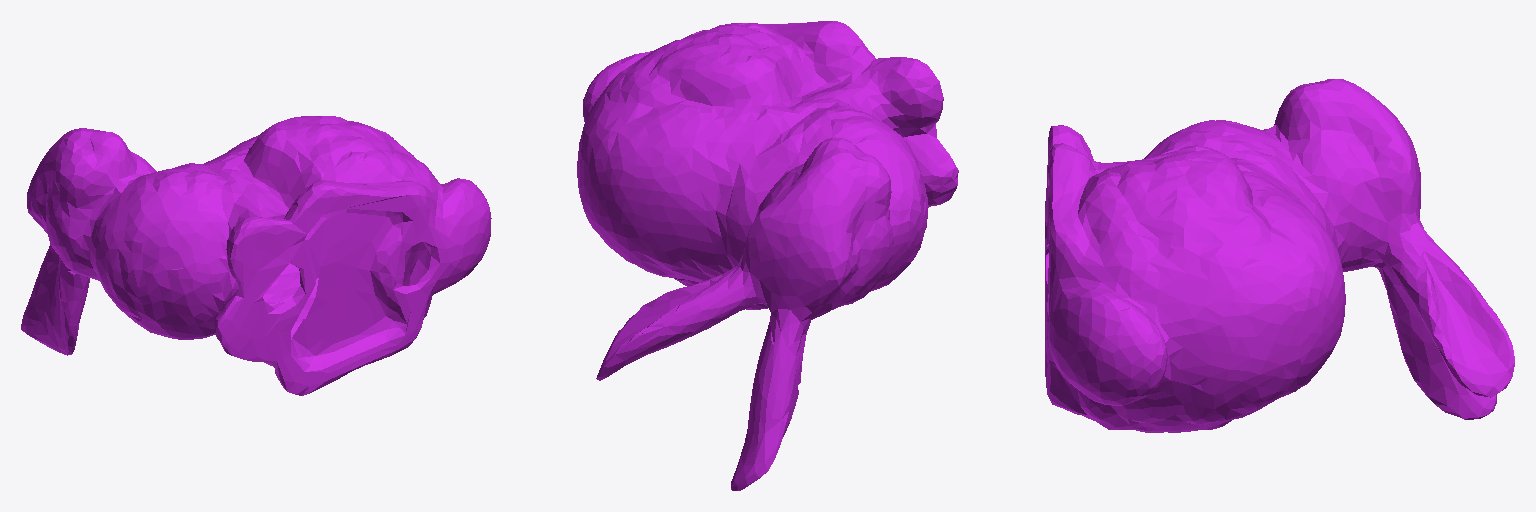
robot.urdf — bunny:
<robot name="bunny">
  <link name="bunny">
    <contact>
      <lateral_friction value="1.0"/>
      <rolling_friction value="0.0"/>
      <contact_cfm value="0.0"/>
      <contact_erp value="1.0"/>
    </contact>
    <inertial>
      <origin rpy="0 0 0" xyz="0 0 0"/>
       <mass value="1.0"/>
       <inertia ixx="1" ixy="0" ixz="0" iyy="1" iyz="0" izz="1"/>
    </inertial>
    <visual>
      <origin rpy="0 0 0" xyz="0 0 0"/>
      <geometry>
	<mesh filename="bunny.obj" scale="1 1 1"/>
      </geometry>
       <material name="random_colour">
        <color rgba="0.812 0.221 0.899 1"/>
      </material>
    </visual>
    <collision>
      <origin rpy="0 0 0" xyz="0 0 0"/>
      <geometry>
	<mesh filename="bunny.obj" scale="1 1 1"/>
      </geometry>
    </collision>
  </link>
</robot>

--- Render facts (derived) ---
The picture shows the robot from 3 angles, left to right: view 1: azimuth 30°, elevation 25°; view 2: azimuth 150°, elevation 25°; view 3: azimuth 270°, elevation 25°; orthographic projection.
Robot: bunny — 1 links, 0 joints (none); root link bunny; default pose: all joints at 0.
Visible links, largest first — view 1: bunny; view 2: bunny; view 3: bunny.
Boxes of the visible links, x1,y1,x2,y2 form: bunny: [21, 116, 491, 395]; bunny: [577, 21, 958, 490]; bunny: [1045, 79, 1514, 432].
Size in the robot's own frame: 0.1552 by 0.1537 by 0.1204 metres.
Meshes: 1 distinct files referenced, 1 mesh visuals loaded (1 OBJ).